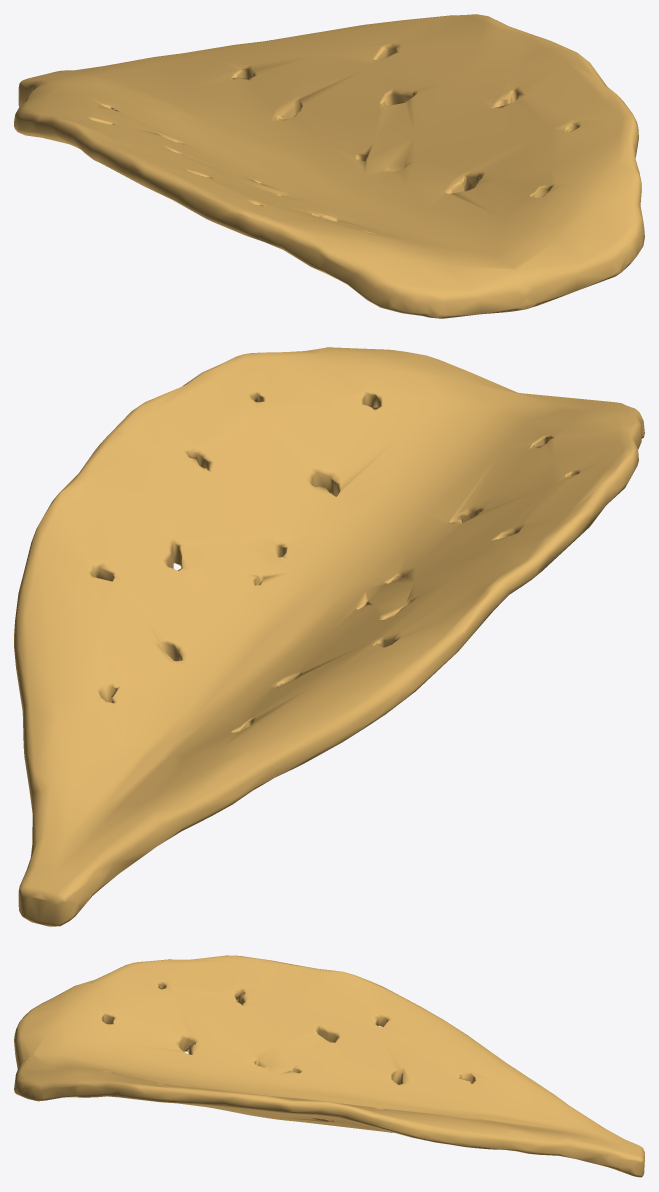
3 renders of one model, top to bottom at view 1: azimuth 30°, elevation 25°; view 2: azimuth 150°, elevation 25°; view 3: azimuth 270°, elevation 25°, orthographic. The views are drawn at different scales.
Parts seen in each view (by area): view 1: 会厌; view 2: 会厌; view 3: 会厌.
Boxes of the visible parts, left/top/right/bottom form: 会厌: left=14, top=14, right=644, bottom=318; 会厌: left=14, top=347, right=644, bottom=926; 会厌: left=14, top=955, right=644, bottom=1177.
Size of the model in its own units: 0.0231 by 0.0113 by 0.0435.
